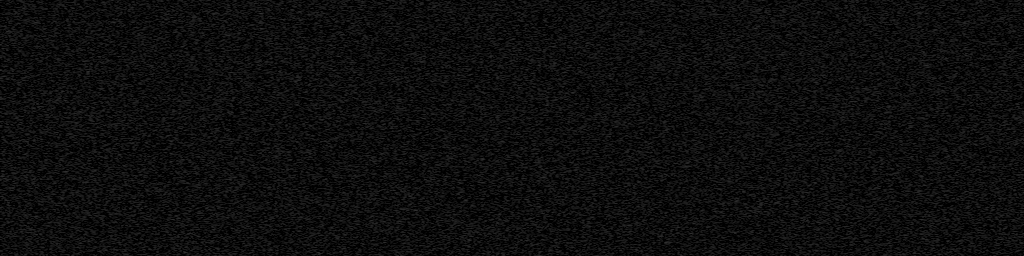wv_am: (231, 0, 236, 256), (550, 0, 555, 256), (114, 0, 118, 256)
wv_cw: (586, 0, 592, 256), (95, 0, 101, 256)
wv_wbfm: (840, 0, 881, 256), (133, 0, 160, 256)
